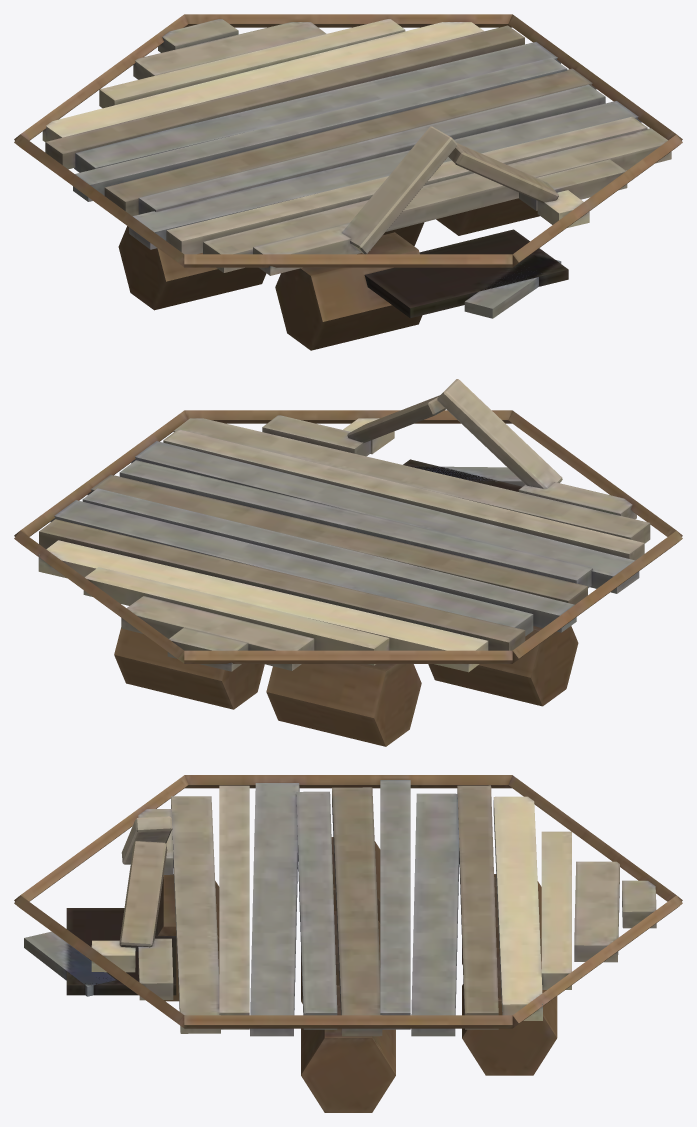
File: raft-damaged-age1-lite.glb
3 renders of one model, top to bottom at view 1: azimuth 30°, elevation 25°; view 2: azimuth 150°, elevation 25°; view 3: azimuth 270°, elevation 25°, orthographic.
Parts seen in each view (by area): view 1: raft-damaged-age1-lite; view 2: raft-damaged-age1-lite; view 3: raft-damaged-age1-lite.
Part boxes in pixels (box(x1,y1,x2,y2)): raft-damaged-age1-lite: box(14, 14, 682, 350); raft-damaged-age1-lite: box(14, 379, 682, 746); raft-damaged-age1-lite: box(14, 775, 682, 1112).
Size of the model in its own units: 1.59 by 0.5784 by 1.83.
Materials: 1 (1 with a texture image).
